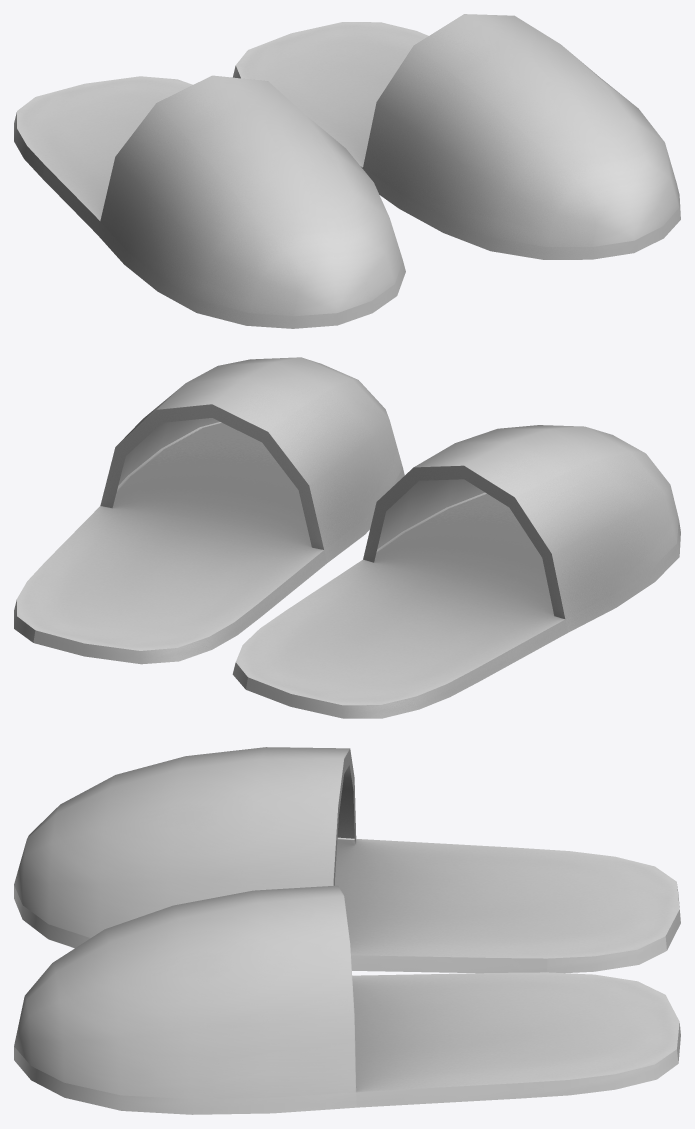
File: Slippers.fbx
The picture shows the model from 3 angles, top to bottom: view 1: azimuth 30°, elevation 25°; view 2: azimuth 150°, elevation 25°; view 3: azimuth 270°, elevation 25°; orthographic projection. The views are drawn at different scales.
Visible parts, largest first — view 1: Slipper_Mesh; view 2: Slipper_Mesh; view 3: Slipper_Mesh.
Boxes of the visible parts, <box> form: Slipper_Mesh: <box>14,14,680,328</box>; Slipper_Mesh: <box>14,357,680,718</box>; Slipper_Mesh: <box>14,747,680,1114</box>.
Size of the model in its own units: 3.31 by 0.865 by 3.44.
